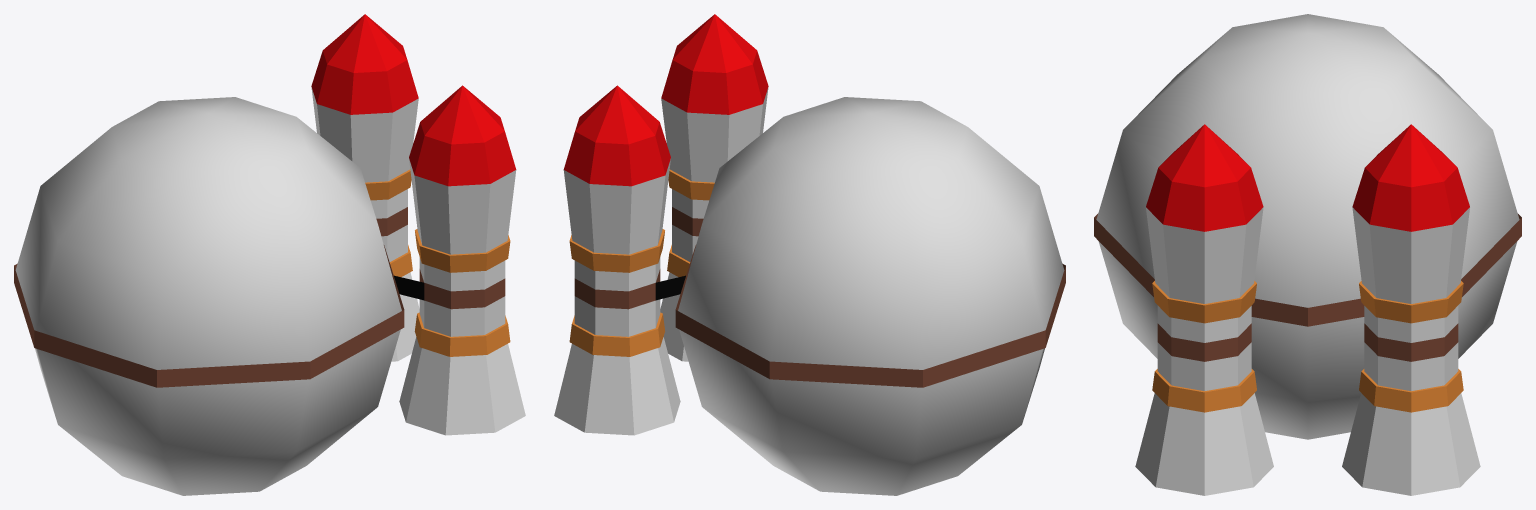
The model's file is ParticleWithJetpack2.fbx.
3 renders of one model, left to right at view 1: azimuth 30°, elevation 25°; view 2: azimuth 150°, elevation 25°; view 3: azimuth 270°, elevation 25°, orthographic. The views are drawn at different scales.
Visible parts, largest first — view 1: Particle, Jetpack; view 2: Particle, Jetpack; view 3: Jetpack, Particle.
Boxes of the visible parts, box(x1,y1,x2,y2) form: Particle: box(15, 97, 401, 495); Jetpack: box(14, 14, 525, 435); Particle: box(678, 97, 1064, 495); Jetpack: box(554, 14, 1065, 435); Jetpack: box(1094, 124, 1521, 495); Particle: box(1096, 14, 1519, 439).
Bounding box in the file's own units: 41.33 × 34.37 × 33.15.
